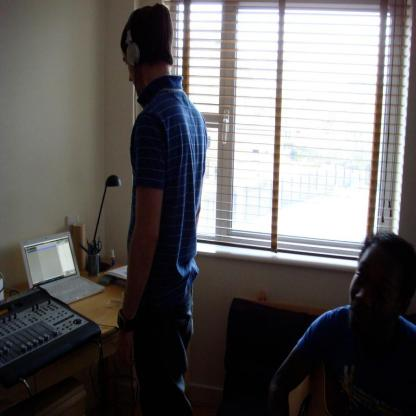board: (19, 230, 103, 306), (92, 240, 102, 270)
